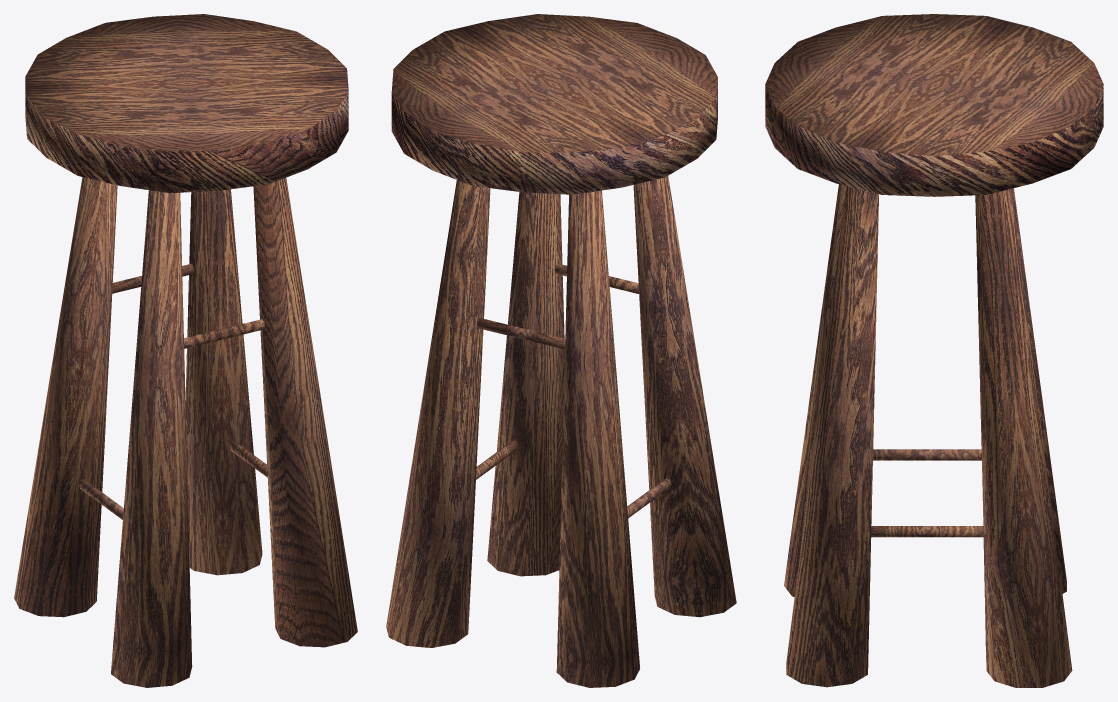
The model's file is stool.fbx.
The picture shows the model from 3 angles, left to right: view 1: azimuth 30°, elevation 25°; view 2: azimuth 150°, elevation 25°; view 3: azimuth 270°, elevation 25°; orthographic projection. The views are drawn at different scales.
Visible parts, largest first — view 1: Mesh; view 2: Mesh; view 3: Mesh.
Boxes of the visible parts, <box> form: Mesh: <box>14,14,357,687</box>; Mesh: <box>386,14,736,687</box>; Mesh: <box>765,14,1103,687</box>.
Size of the model in its own units: 1.41 by 2.52 by 1.41.
